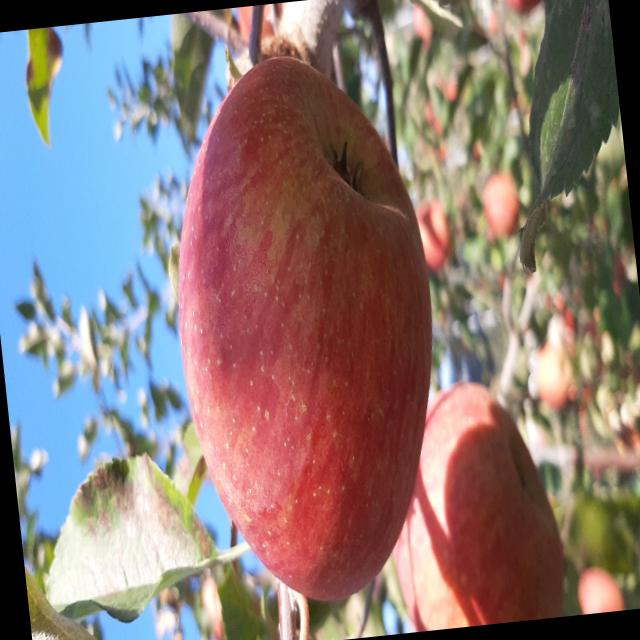fresh: (147, 35, 468, 628)
